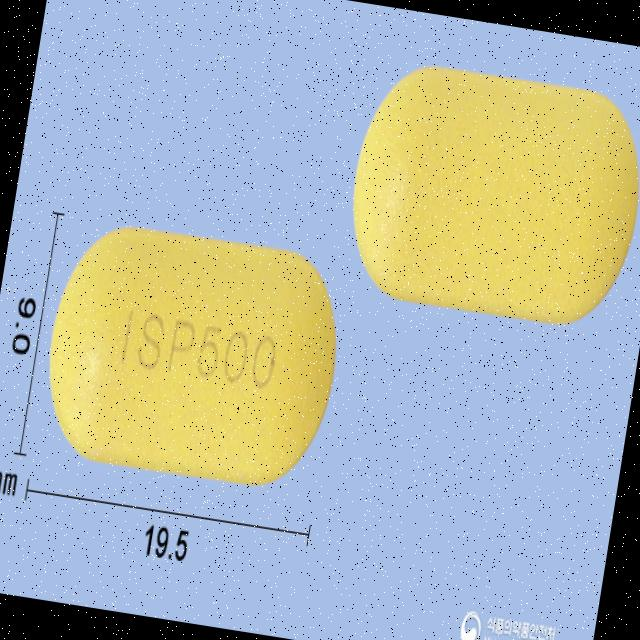Ilsung Clarithromycin: (32, 213, 354, 494), (337, 51, 640, 335)
